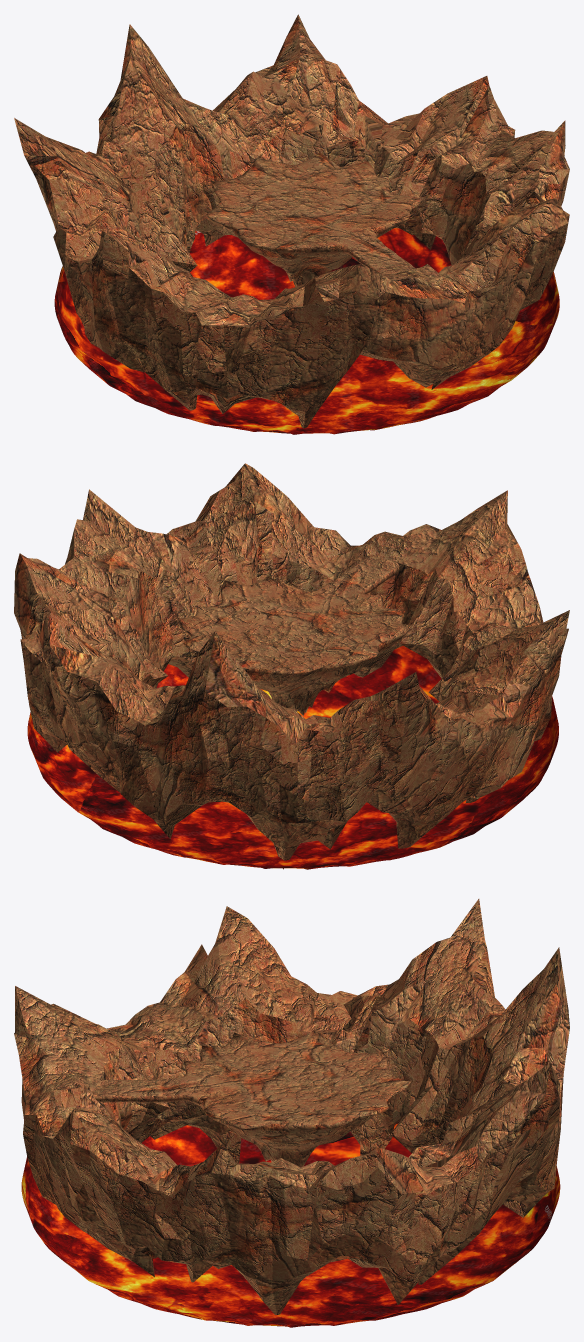
Rendered from Hell Arena.glb.
3 views of the same model, one above another, from view 1: azimuth 30°, elevation 25°; view 2: azimuth 150°, elevation 25°; view 3: azimuth 270°, elevation 25° (orthographic). The views are drawn at different scales.
Parts seen in each view (by area): view 1: Circle, Circle_001, Plane; view 2: Circle, Circle_001, Plane; view 3: Circle, Circle_001, Plane.
Boxes of the visible parts, x1,y1,x2,y2 form: Circle: (14,14,569,428); Circle_001: (54,228,559,434); Plane: (205,152,423,286); Circle: (14,463,569,869); Circle_001: (27,645,558,869); Plane: (178,554,412,715); Circle: (14,899,569,1314); Circle_001: (21,1120,560,1327); Plane: (91,1030,410,1167).
Bounding box in the file's own units: 4.92 × 2.75 × 4.81.
3 materials, 3 textured.
